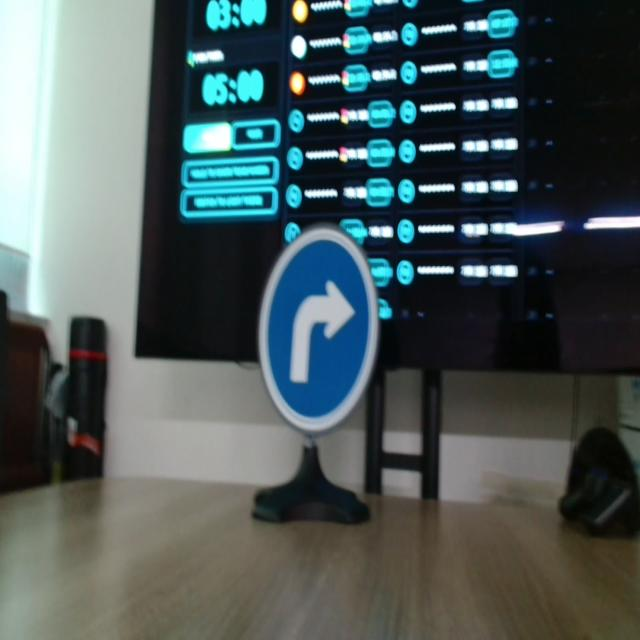right_dierection: (255, 220, 377, 430)
